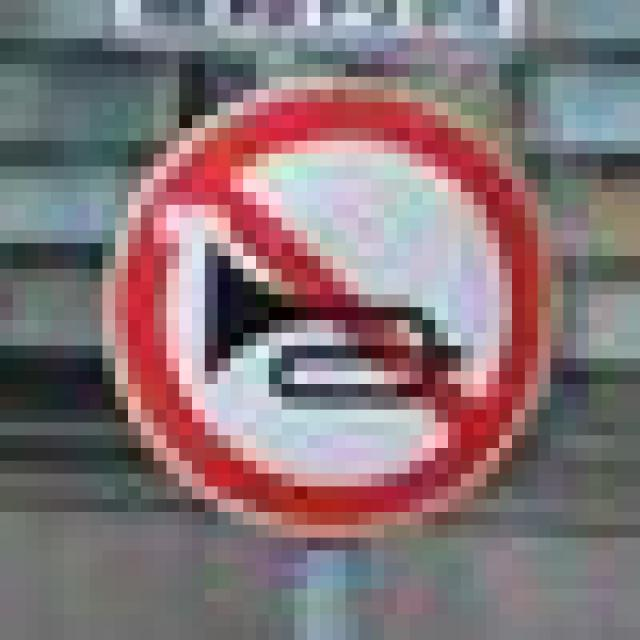HORN_PROHIBITED: (90, 64, 550, 525)
